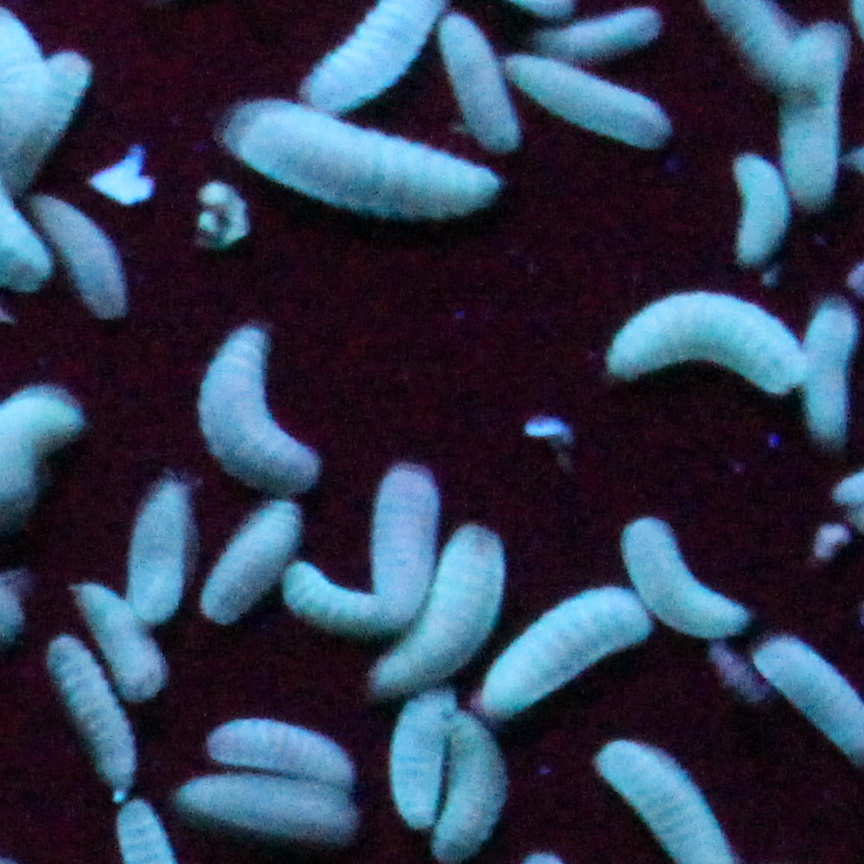larve: (221, 94, 499, 215), (289, 463, 430, 631), (378, 525, 514, 695), (607, 294, 801, 400), (189, 325, 312, 486), (481, 594, 642, 713), (621, 510, 742, 628), (52, 641, 137, 807), (512, 61, 671, 146), (32, 189, 127, 318), (70, 582, 166, 707), (434, 10, 516, 153), (183, 781, 358, 846), (209, 507, 303, 617), (786, 20, 837, 213), (207, 718, 362, 776), (122, 472, 180, 627), (803, 297, 862, 441), (393, 700, 450, 828), (732, 156, 783, 271)
